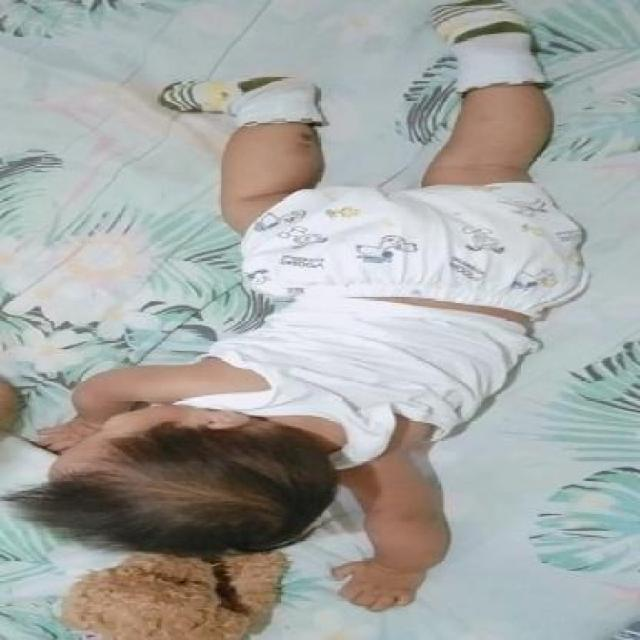baby: (23, 4, 584, 612)
